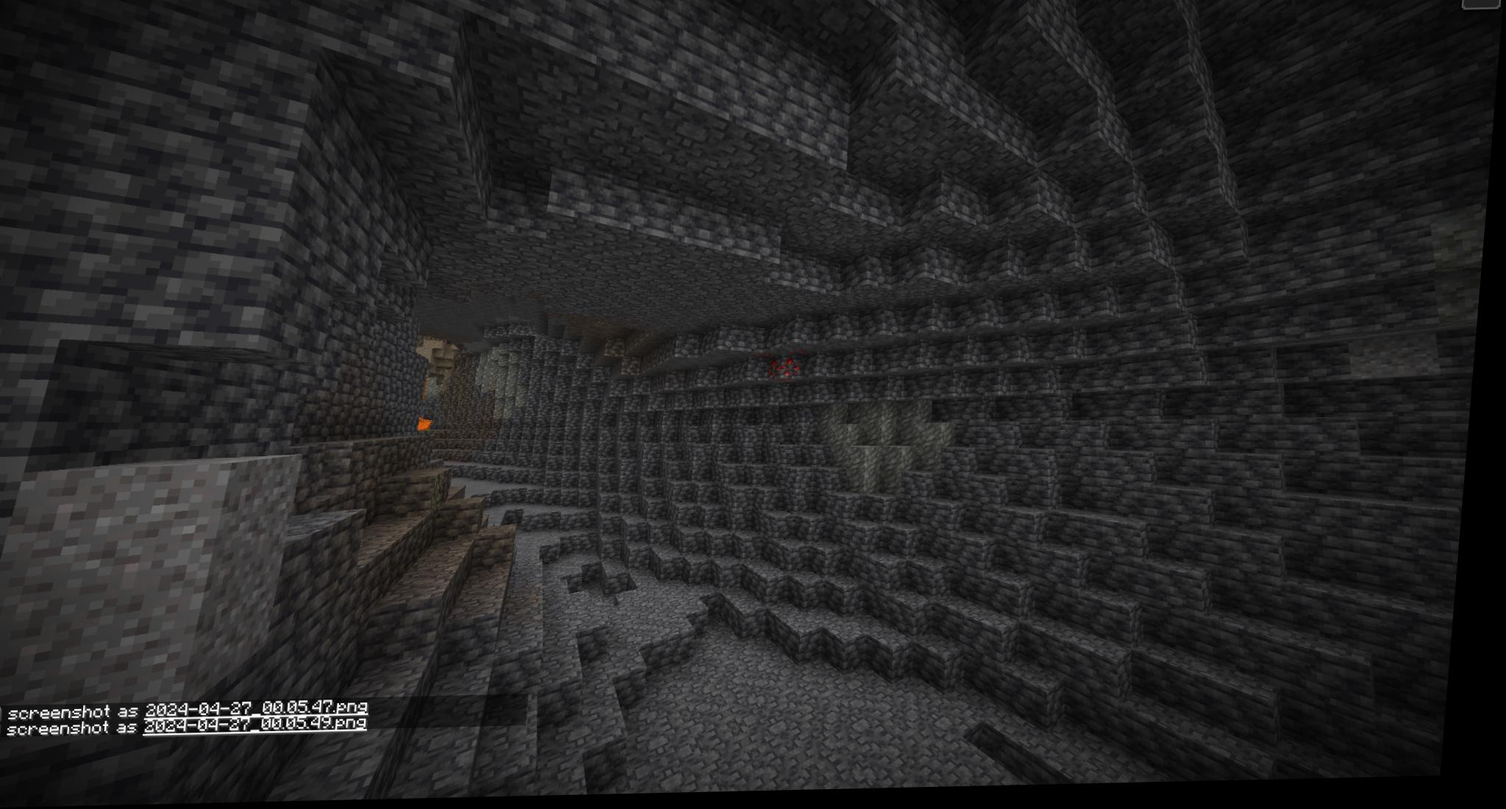redstone ore: (778, 360, 806, 386)
